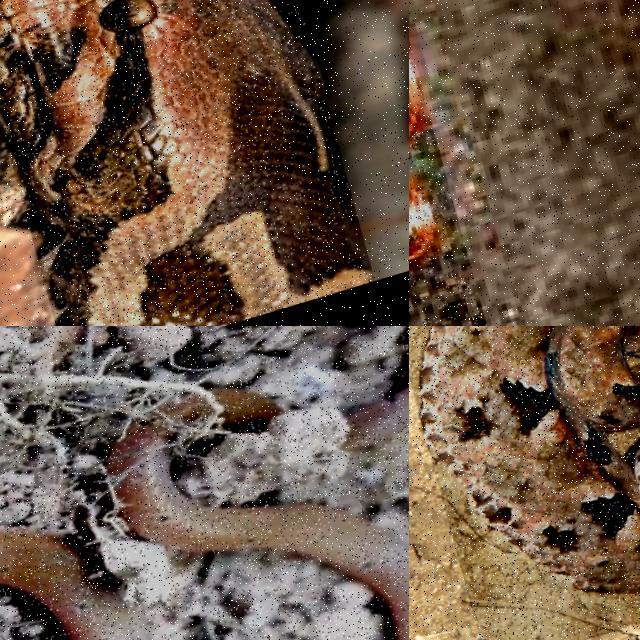Calliophis intestinalis: (409, 179, 436, 266)
Calliophis maculiceps: (107, 425, 408, 639)
Calloselasma rhodostoma: (420, 326, 639, 593)
Python bivittatus: (0, 0, 371, 325)
